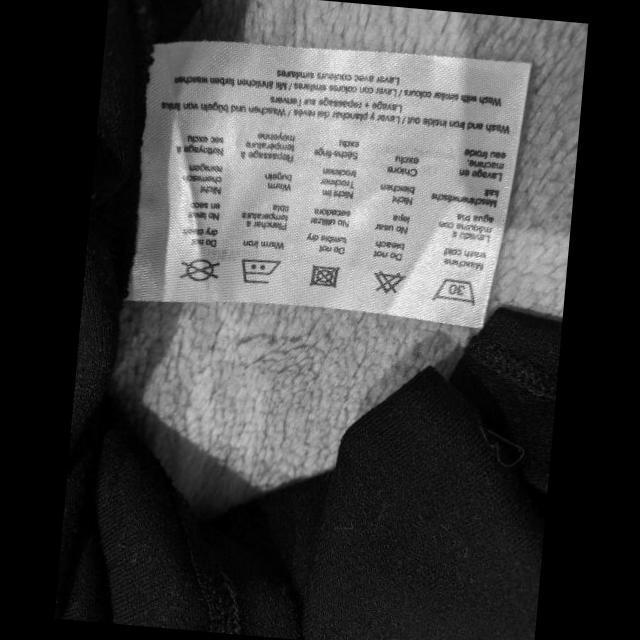30C: (428, 273, 479, 308)
DN_bleach: (369, 266, 406, 298)
DN_dry_clean: (176, 252, 220, 284)
DN_tumble_dry: (306, 260, 340, 290)
iron_medium: (234, 253, 282, 288)
